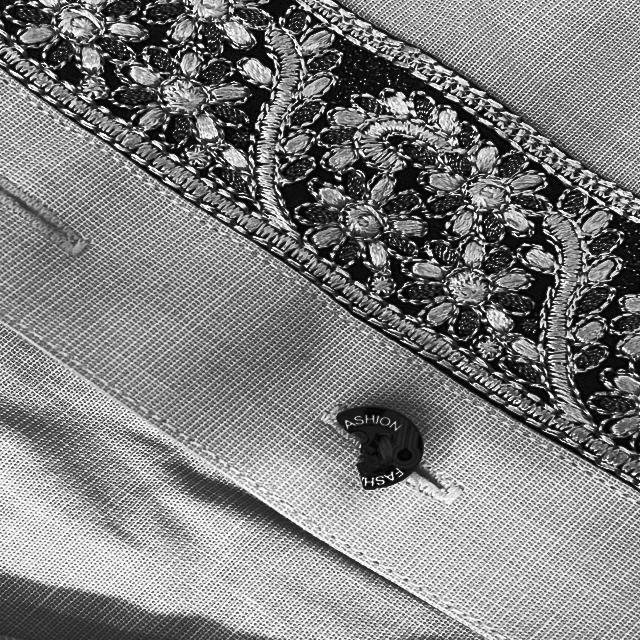Broken_button: (314, 394, 450, 509)
